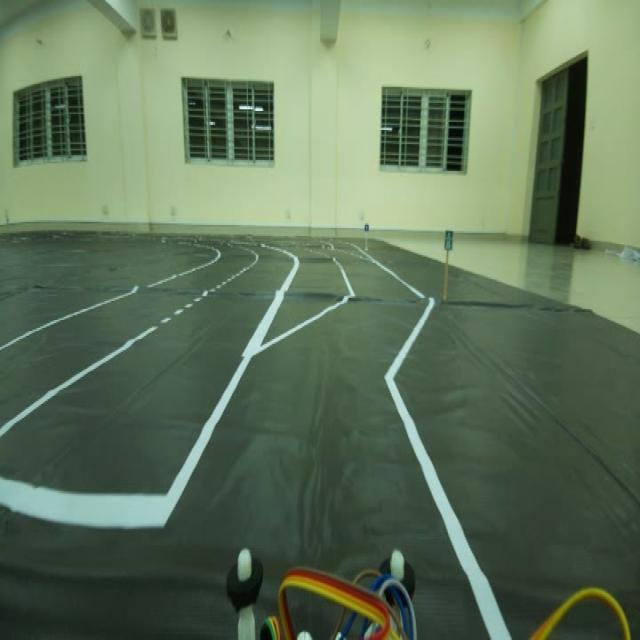highway_entry: (442, 222, 454, 258)
